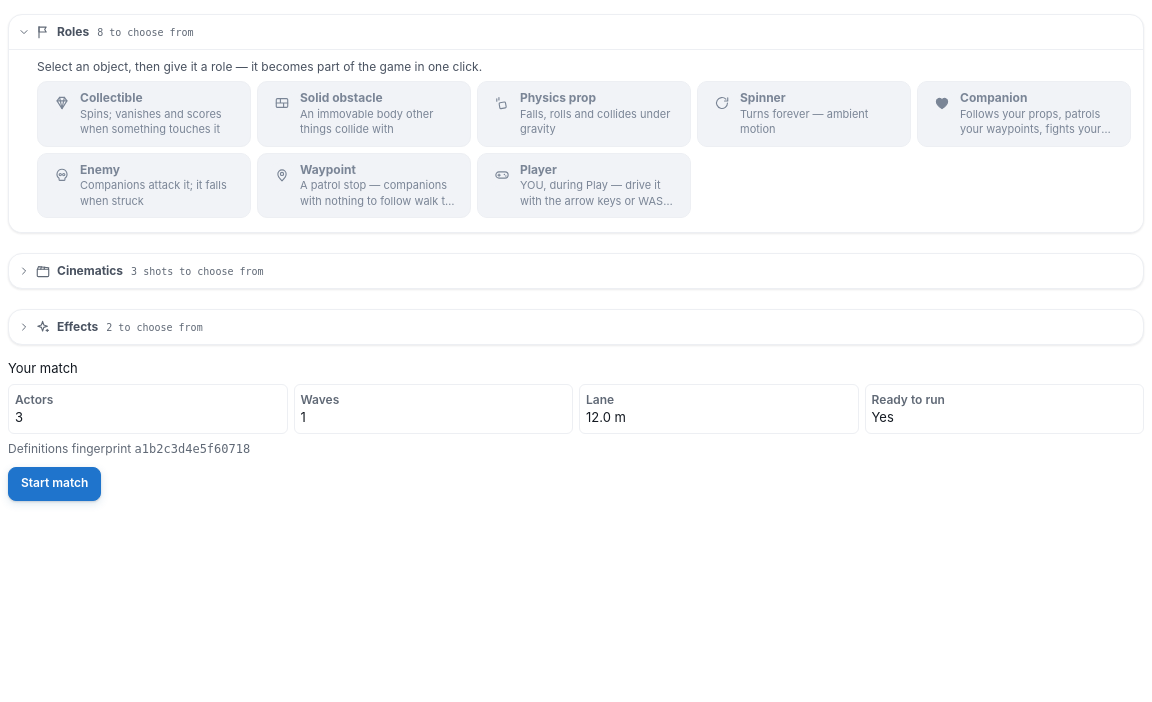
Test case: MatchPanel › shows an active status effect by name, not by colour alone
The width and height of the screenshot is (1152, 702).
Click the button "Start match".
click(55, 484)  # box left=8, top=467, right=101, bottom=501
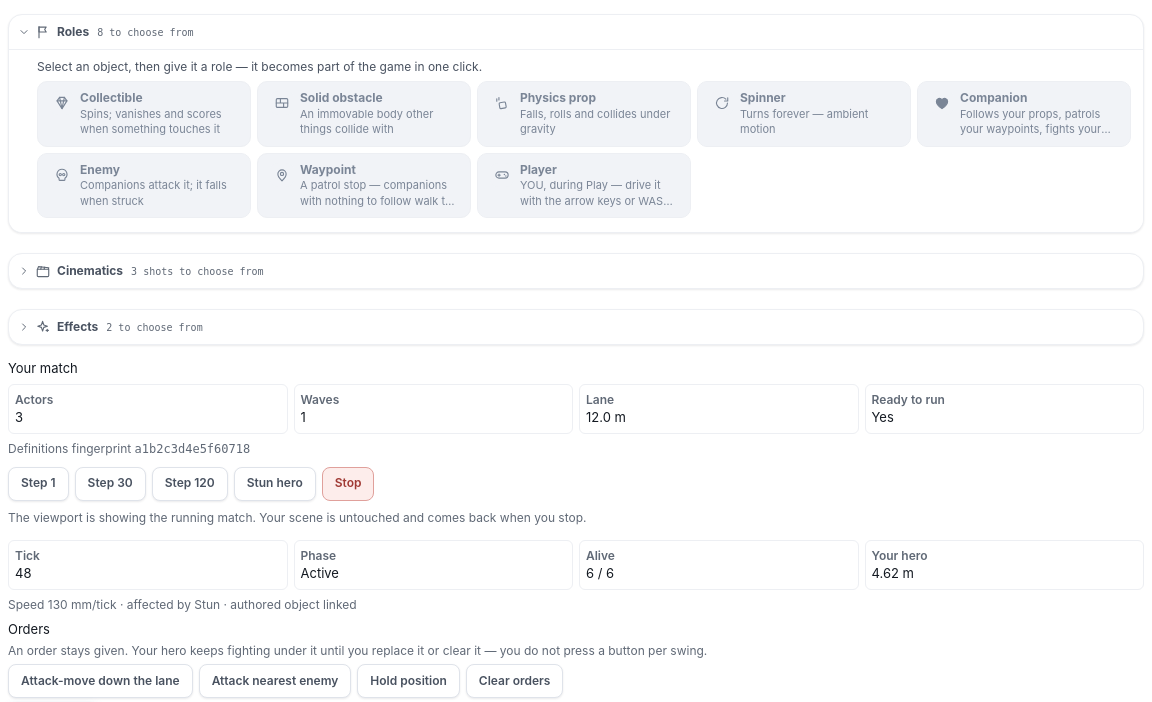
Result: the text "affected by Stun" is shown at left=127, top=597, right=220, bottom=612
Result: the text "48" is shown at left=15, top=565, right=32, bottom=581
Result: the text "4.62 m" is shown at left=872, top=565, right=914, bottom=581
